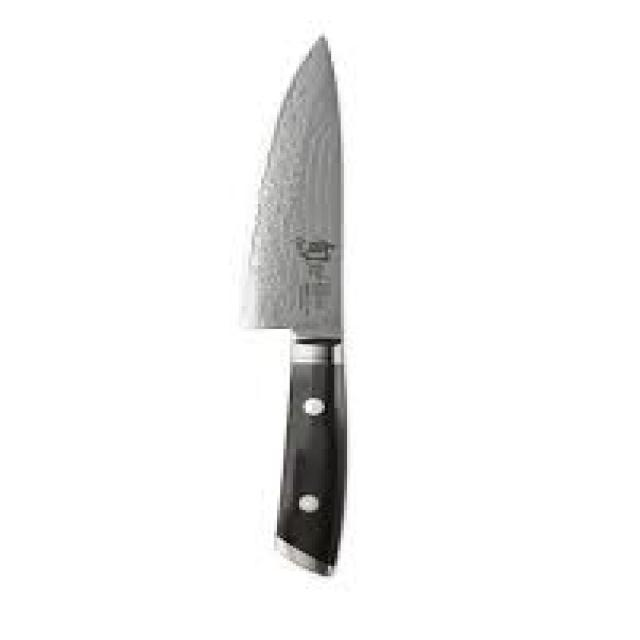knives: (232, 31, 354, 578)
